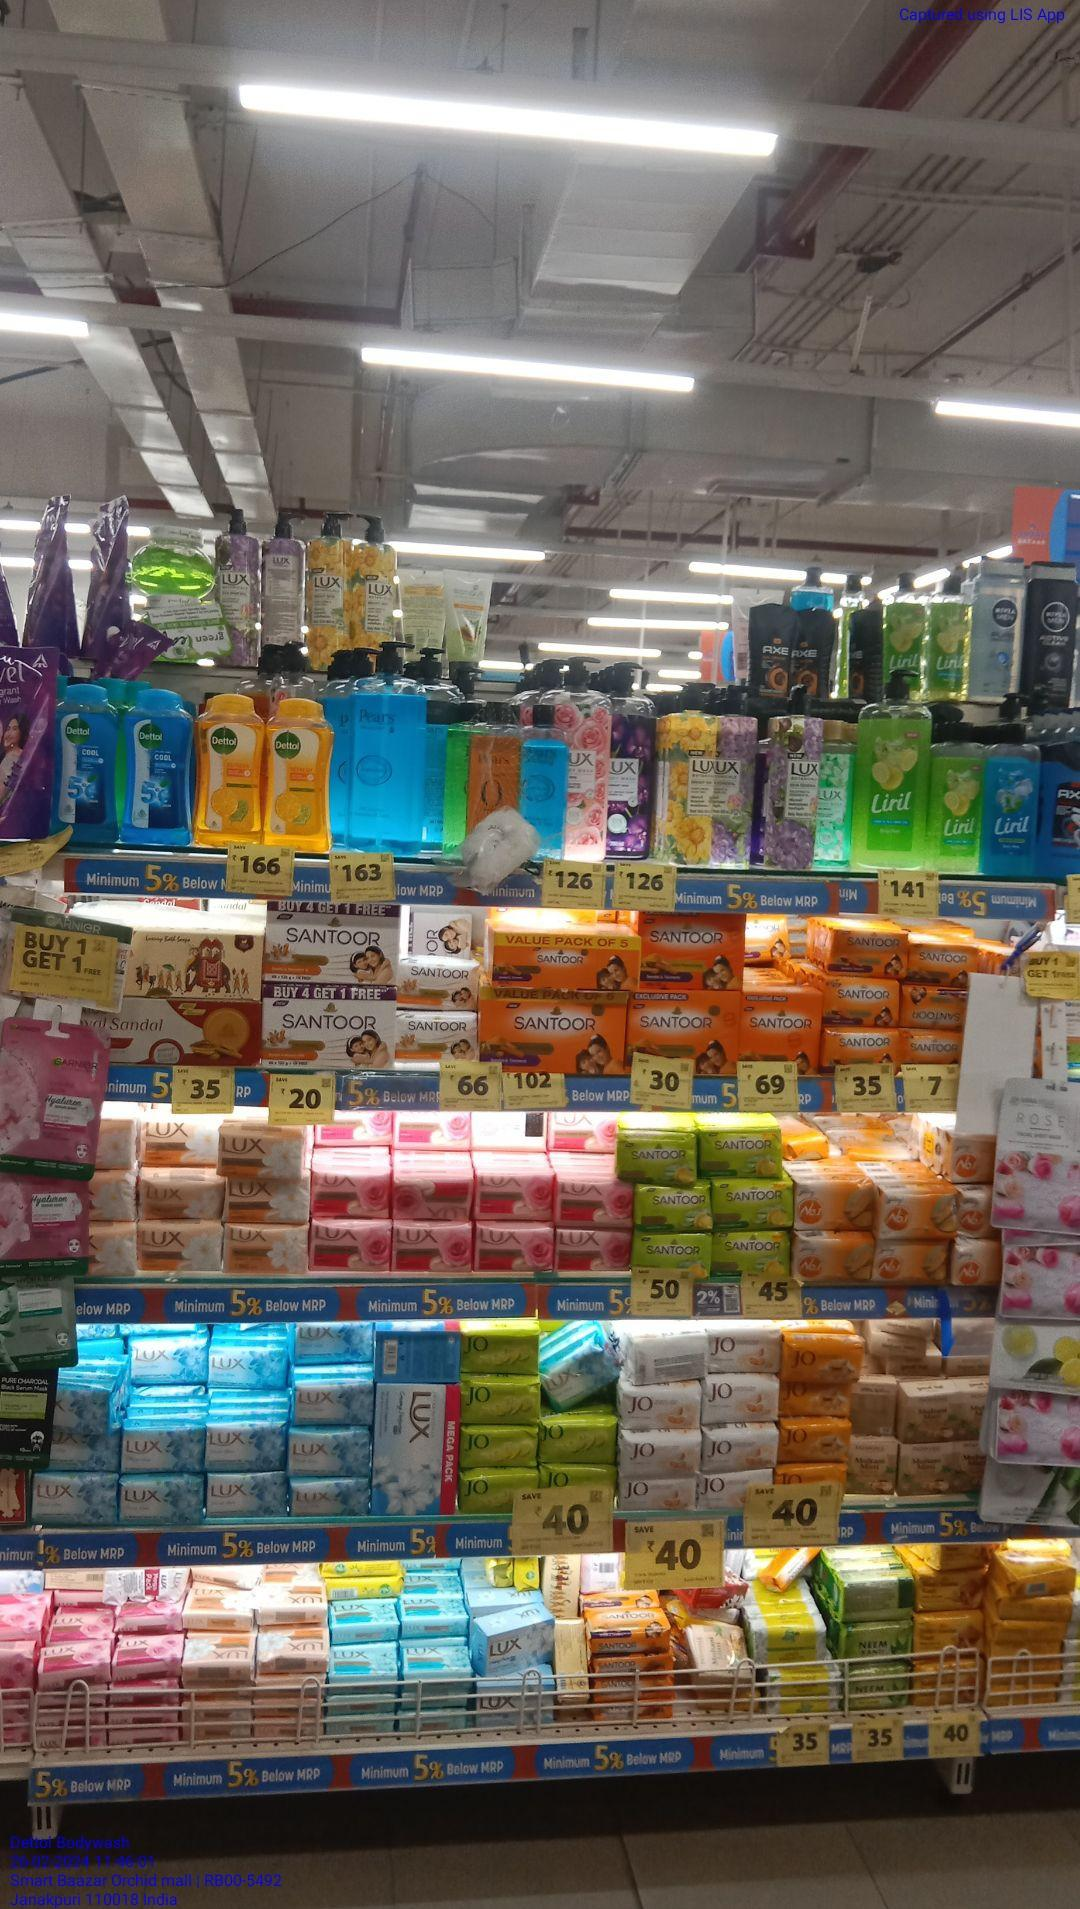Dettol_Bodywash_Cool: (52, 683, 121, 847), (123, 687, 190, 846)
Dettol_Bodywash_Refresh: (262, 696, 326, 848), (198, 694, 258, 848)
Liril_Lime_and_Tea_Tree_Oil_Body_Wash_250ML: (931, 717, 983, 875)
